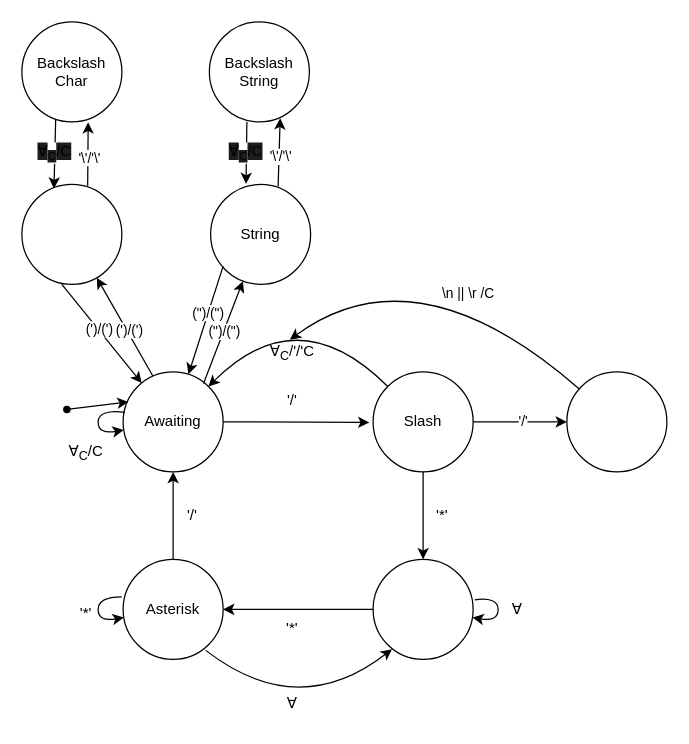
Image size: 689x744. Some labels were removed from this diagram. Each missing label, with the centre of its shape:
Char: (71,233)
Multi Line Comment: (422,608)
One Line Comment: (616,421)
